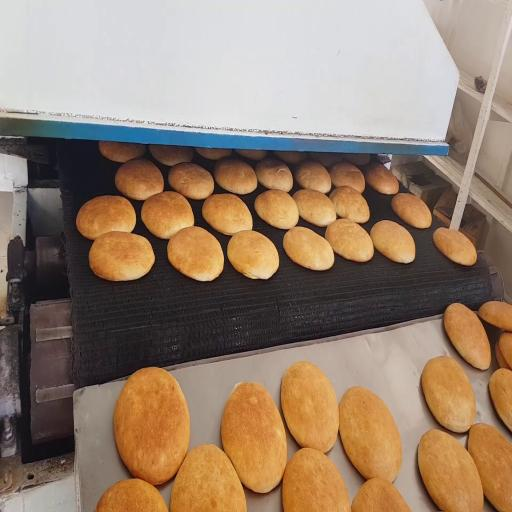bread: (114, 368, 190, 484), (222, 383, 287, 493), (339, 387, 402, 482), (281, 362, 339, 453), (418, 430, 483, 511), (171, 445, 246, 511), (283, 448, 350, 511), (421, 356, 475, 432), (468, 424, 511, 511), (89, 232, 154, 281), (444, 303, 491, 369), (168, 227, 223, 281), (76, 196, 136, 239), (227, 230, 279, 279), (141, 192, 194, 239), (95, 479, 167, 511), (283, 227, 334, 270), (325, 219, 373, 262), (202, 194, 252, 235), (115, 159, 163, 200), (370, 220, 415, 263), (352, 478, 410, 511), (255, 190, 298, 229), (168, 163, 214, 199), (293, 189, 336, 227), (434, 228, 477, 265), (214, 159, 257, 194), (330, 186, 369, 223), (392, 193, 431, 228), (489, 369, 511, 430), (256, 158, 293, 192), (295, 161, 331, 193), (330, 162, 365, 193), (99, 142, 145, 163), (479, 301, 511, 331), (366, 164, 398, 194), (150, 145, 193, 166), (309, 152, 342, 167), (195, 147, 231, 160), (274, 151, 307, 164), (499, 332, 511, 367), (495, 342, 510, 369), (235, 150, 267, 161), (343, 154, 370, 165)
